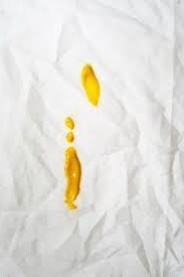mustard: (57, 145, 86, 214), (83, 66, 103, 110), (64, 117, 76, 132), (67, 135, 75, 143)
